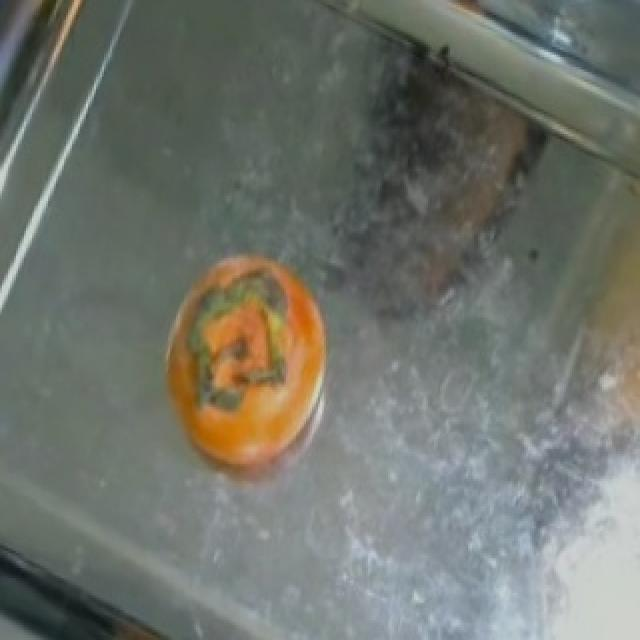Fruit: (144, 231, 348, 514), (2, 0, 118, 77)
